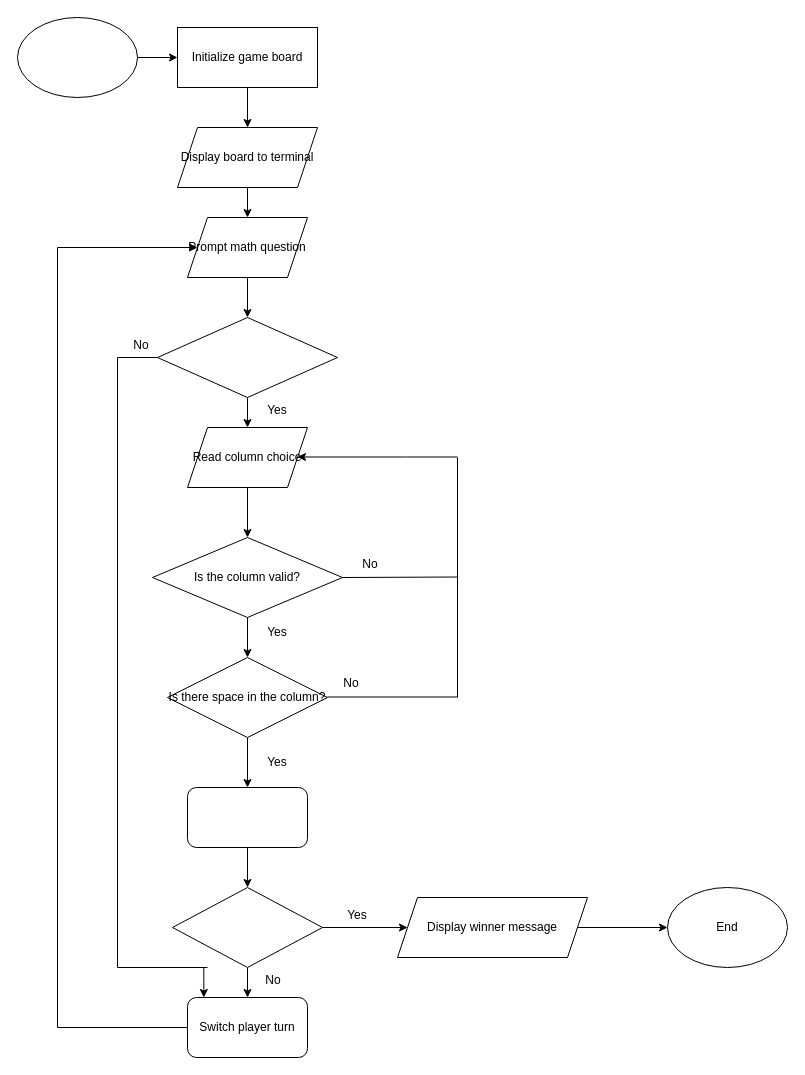
The diagram is 805 pixels wide and 1075 high, and some of its shapes have lost their labels. The shapes that lost their labels are listed below. From the top down, each one's box as (x1, y1, x2, y2) in pixels, then its label:
(16, 16, 138, 98): Start
(156, 316, 338, 398): Is answer correct?
(186, 786, 308, 848): Drop piece to lowest row
(172, 886, 322, 968): Four in a row?
